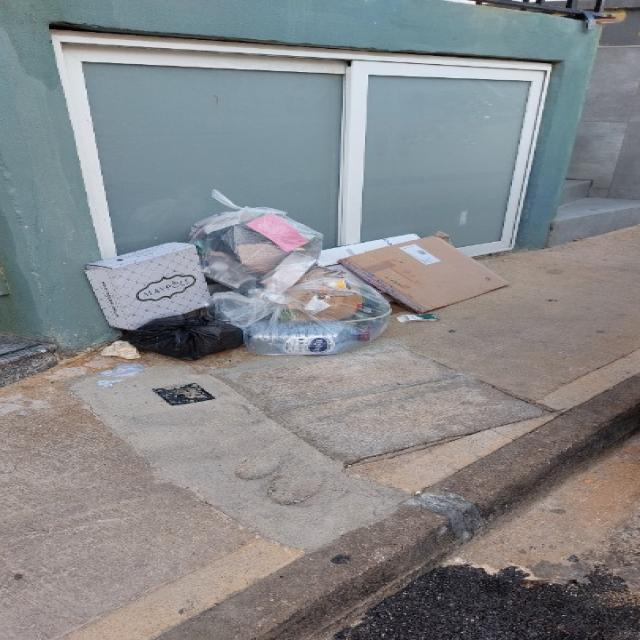Mixed Waste -Black Bag-: (113, 319, 250, 360)
Organic Waste -White Bag-: (212, 279, 396, 353), (188, 201, 325, 290)
Other: (355, 233, 516, 307), (86, 238, 208, 327)
